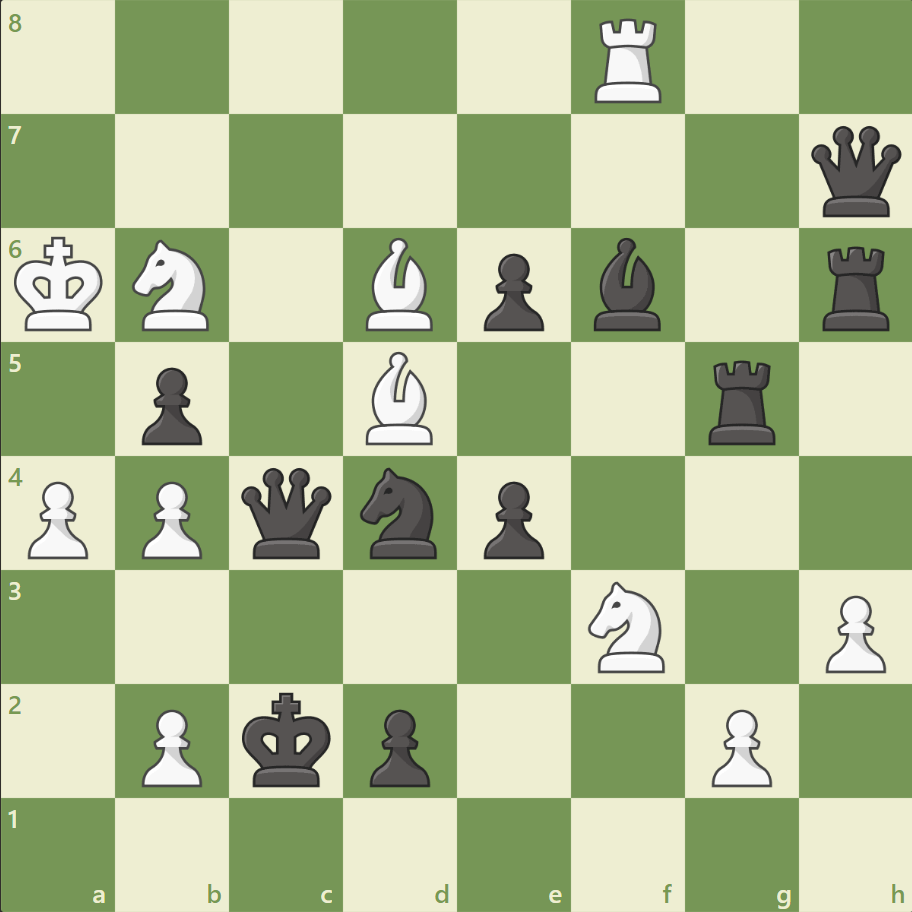B: (358, 233, 442, 336), (358, 347, 442, 449)
K: (11, 231, 111, 339)
N: (124, 234, 222, 337), (579, 575, 676, 677)
P: (20, 473, 95, 564), (133, 473, 208, 564), (133, 700, 208, 791), (701, 700, 776, 791), (815, 586, 889, 677)
R: (587, 12, 670, 109)
b: (585, 233, 669, 336)
k: (238, 685, 338, 793)
n: (351, 461, 449, 564)
p: (474, 246, 549, 337), (133, 359, 208, 450), (474, 473, 549, 564), (361, 700, 435, 791)
q: (805, 122, 904, 222), (237, 463, 336, 562)
r: (814, 239, 897, 336), (700, 352, 783, 449)
